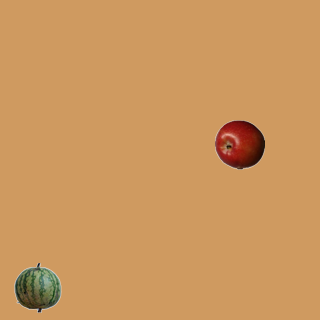Apple Braeburn: (214, 119, 264, 169)
Watermelon: (12, 262, 62, 312)
